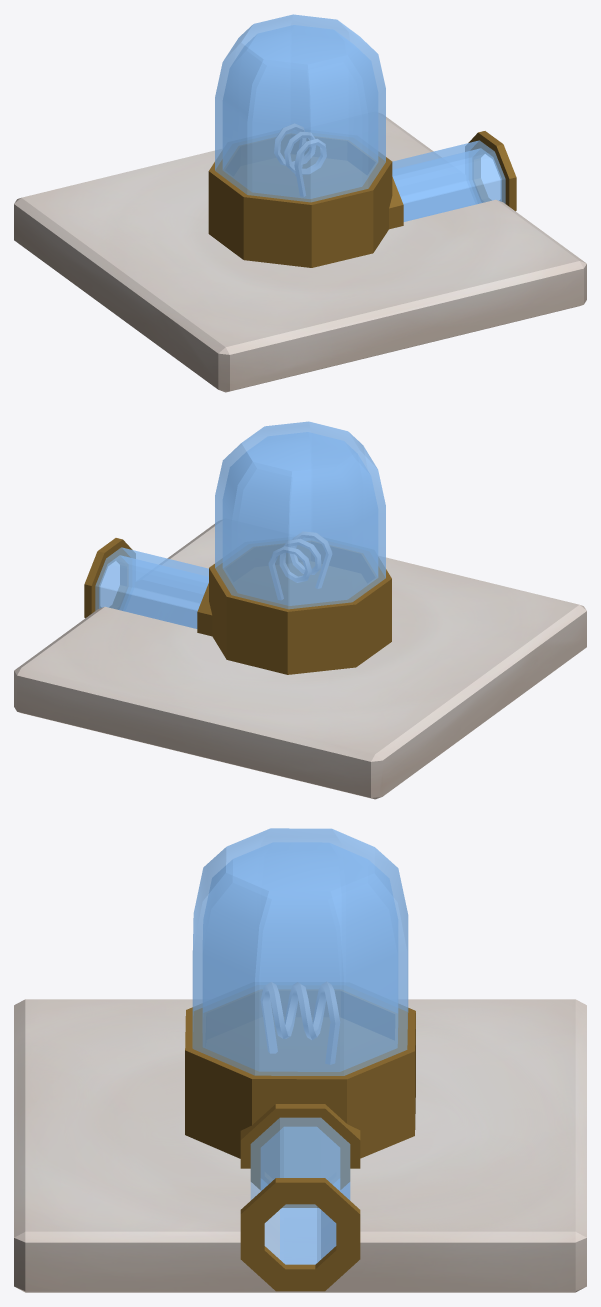
Rendered from startEnd_piece.fbx.
3 renders of one model, top to bottom at view 1: azimuth 30°, elevation 25°; view 2: azimuth 150°, elevation 25°; view 3: azimuth 270°, elevation 25°, orthographic. The views are drawn at different scales.
Parts seen in each view (by area): view 1: puzzle_piece_end_base, bulb_outer, bulb_inner, bulb_base, straight_pipe, pipe_endcap1, bulb_filament, pipe_endcapConnecter; view 2: puzzle_piece_end_base, bulb_outer, bulb_inner, bulb_base, straight_pipe, pipe_endcap1, bulb_filament, pipe_endcapConnecter; view 3: puzzle_piece_end_base, bulb_outer, bulb_inner, bulb_base, straight_pipe, pipe_endcap1, pipe_endcapConnecter, bulb_filament.
Part boxes in pixels (bbox=[...]): puzzle_piece_end_base: bbox=[14, 113, 586, 392]; bulb_outer: bbox=[215, 14, 385, 202]; bulb_inner: bbox=[223, 25, 377, 198]; bulb_base: bbox=[208, 133, 392, 267]; straight_pipe: bbox=[392, 140, 505, 221]; pipe_endcap1: bbox=[465, 131, 516, 211]; bulb_filament: bbox=[274, 124, 326, 196]; pipe_endcapConnecter: bbox=[389, 177, 403, 229]; puzzle_piece_end_base: bbox=[14, 520, 586, 799]; bulb_outer: bbox=[215, 421, 385, 609]; bulb_inner: bbox=[223, 432, 377, 605]; bulb_base: bbox=[209, 540, 391, 674]; straight_pipe: bbox=[95, 547, 208, 628]; pipe_endcap1: bbox=[84, 538, 135, 618]; bulb_filament: bbox=[269, 532, 331, 599]; pipe_endcapConnecter: bbox=[197, 583, 212, 636]; puzzle_piece_end_base: bbox=[14, 999, 586, 1292]; bulb_outer: bbox=[192, 828, 408, 1075]; bulb_inner: bbox=[203, 842, 397, 1071]; bulb_base: bbox=[185, 989, 415, 1179]; straight_pipe: bbox=[250, 1117, 350, 1264]; pipe_endcap1: bbox=[240, 1178, 360, 1291]; pipe_endcapConnecter: bbox=[240, 1104, 360, 1207]; bulb_filament: bbox=[261, 982, 339, 1064].
Size of the model in its own units: 142 by 87.45 by 138.
